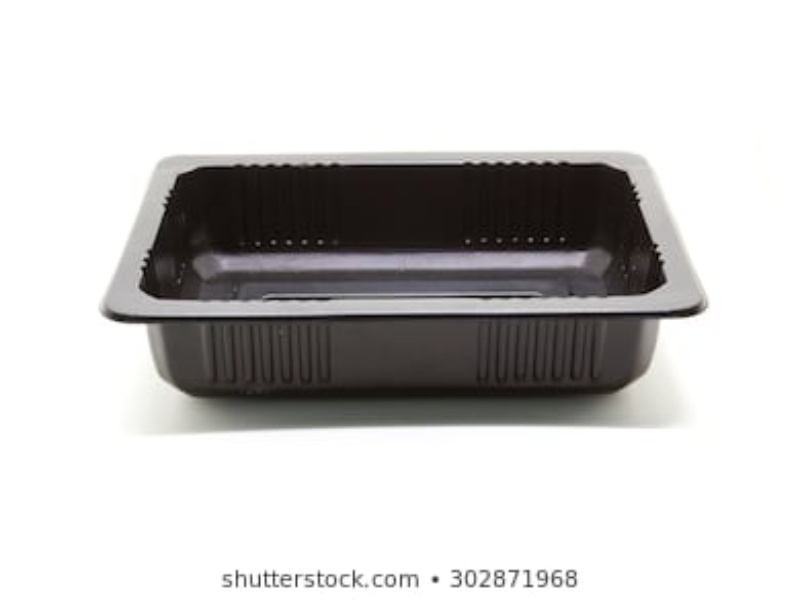plastic-tray: (92, 152, 711, 404)
